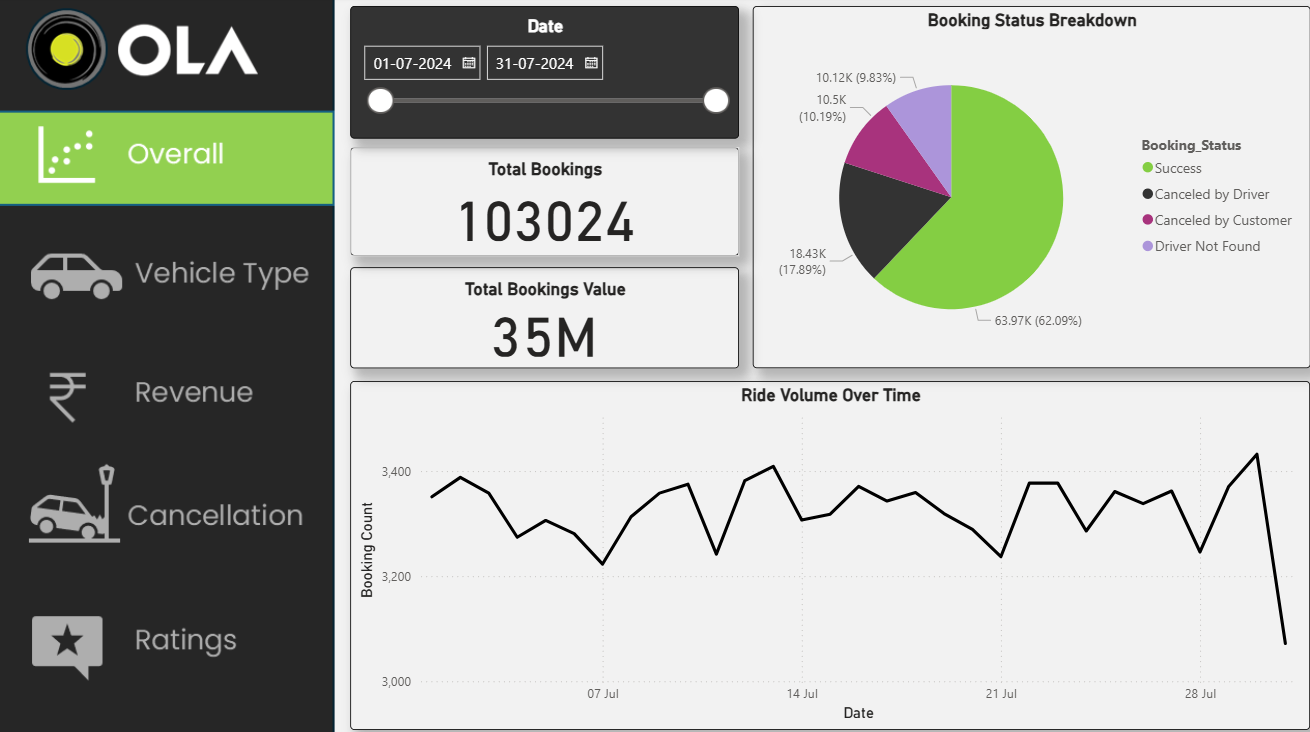

This screenshot's page, from the dashboard's own definition file:
{"tool":"powerbi","page":{"name":"Overall","canvas":[1280,720],"ordinal":0},"visuals":[{"type":"actionButton","box":[0,224.4,324.5,90.5],"z":0},{"type":"actionButton","box":[0,340.2,324.5,90.5],"z":1000},{"type":"actionButton","box":[0,445.2,324.5,114.6],"z":2000},{"type":"actionButton","box":[0,576.7,324.5,114.6],"z":3000},{"type":"lineChart","title":" Ride Volume Over Time","fields":{"Y":["CountNonNull(OLA Bookings Excel file.Booking_ID)"],"Category":["OLA Bookings Excel file.Date"]},"box":[339,371.6,926.5,336.6],"z":4000},{"type":"pieChart","title":"Booking Status Breakdown","fields":{"Y":["CountNonNull(OLA Bookings Excel file.Booking_Status)"],"Category":["OLA Bookings Excel file.Booking_Status"]},"box":[727.5,9.7,538.1,349.9],"z":5000},{"type":"slicer","title":"Date","fields":{"Values":["OLA Bookings Excel file.Date"]},"box":[339,9.7,375.2,127.9],"z":6000},{"type":"card","title":"Total Bookings","fields":{"Values":["CountNonNull(OLA Bookings Excel file.Booking_ID)"]},"box":[339,146,375.2,105],"z":7000},{"type":"card","title":"Total Bookings Value","fields":{"Values":["Sum(OLA Bookings Excel file.Booking_Value)"]},"box":[339,261.8,375.2,97.7],"z":8000}]}

Visuals, with their boxes in screenshot pixels (x1, y1, x2, y2), scaled from the page's 1280x720 canvas onto the 1310x732 screenshot:
actionButton: {"x1": 0, "y1": 228, "x2": 332, "y2": 320}
actionButton: {"x1": 0, "y1": 346, "x2": 332, "y2": 438}
actionButton: {"x1": 0, "y1": 453, "x2": 332, "y2": 569}
actionButton: {"x1": 0, "y1": 586, "x2": 332, "y2": 703}
" Ride Volume Over Time" lineChart: {"x1": 347, "y1": 378, "x2": 1295, "y2": 720}
"Booking Status Breakdown" pieChart: {"x1": 745, "y1": 10, "x2": 1295, "y2": 366}
"Date" slicer: {"x1": 347, "y1": 10, "x2": 731, "y2": 140}
"Total Bookings" card: {"x1": 347, "y1": 148, "x2": 731, "y2": 255}
"Total Bookings Value" card: {"x1": 347, "y1": 266, "x2": 731, "y2": 365}
